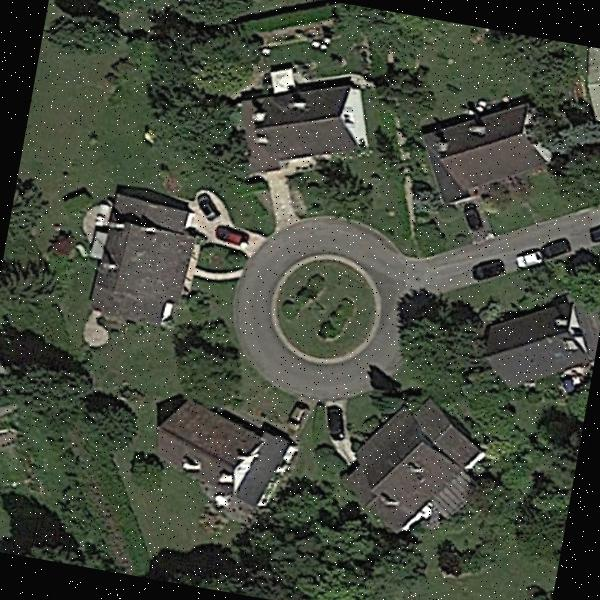Buildings: (353, 408, 484, 522), (88, 195, 191, 326), (150, 410, 282, 506), (432, 109, 548, 203), (248, 80, 366, 166), (486, 302, 592, 387), (580, 47, 600, 128)
